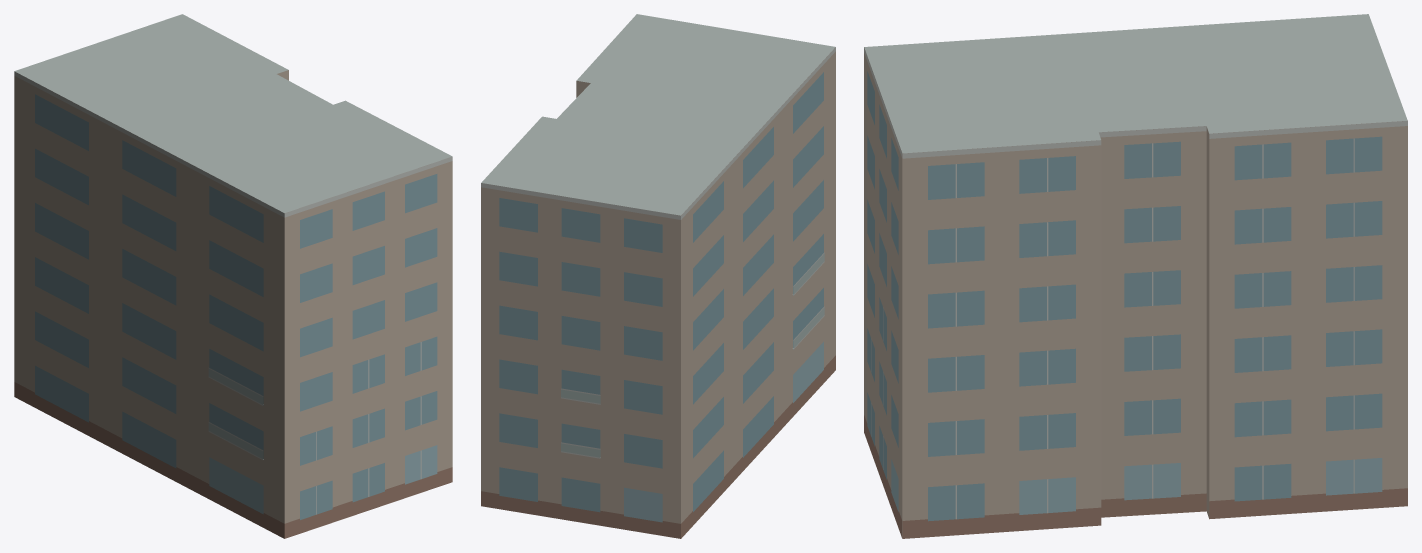
Rendered from survey-upis-32574428.glb.
3 views of the same model, side by side, from view 1: azimuth 30°, elevation 25°; view 2: azimuth 150°, elevation 25°; view 3: azimuth 270°, elevation 25° (orthographic). The views are drawn at different scales.
Visible parts, largest first — view 1: survey-upis-32574428.tmp; view 2: survey-upis-32574428.tmp; view 3: survey-upis-32574428.tmp.
Part boxes in pixels (x1,y1,x2,y2): survey-upis-32574428.tmp: [14, 14, 452, 538]; survey-upis-32574428.tmp: [481, 14, 835, 538]; survey-upis-32574428.tmp: [864, 14, 1407, 538].
Size of the model in its own units: 13.98 by 18 by 23.02.
